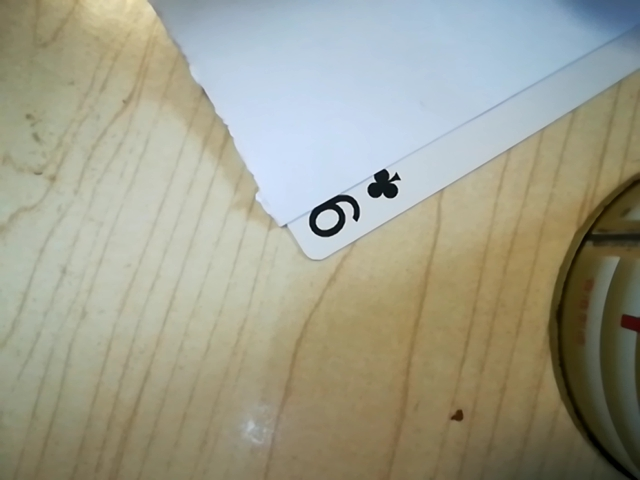mh 9: (297, 162, 412, 251)
